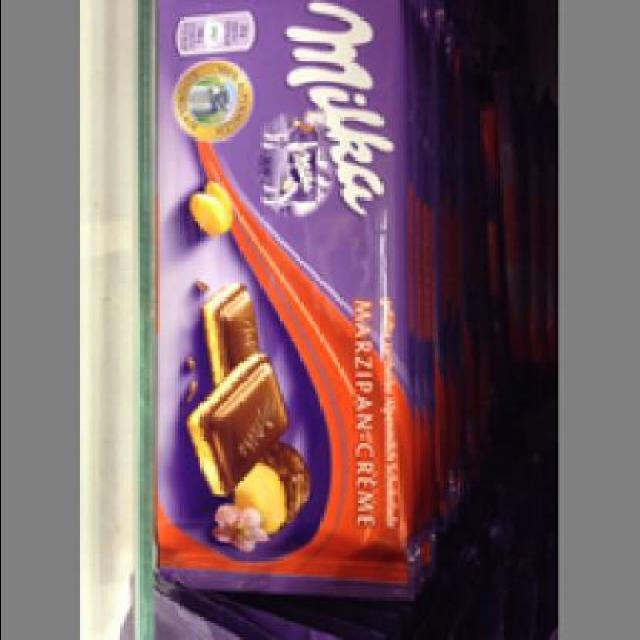Chocolate bar: (157, 2, 414, 586)
